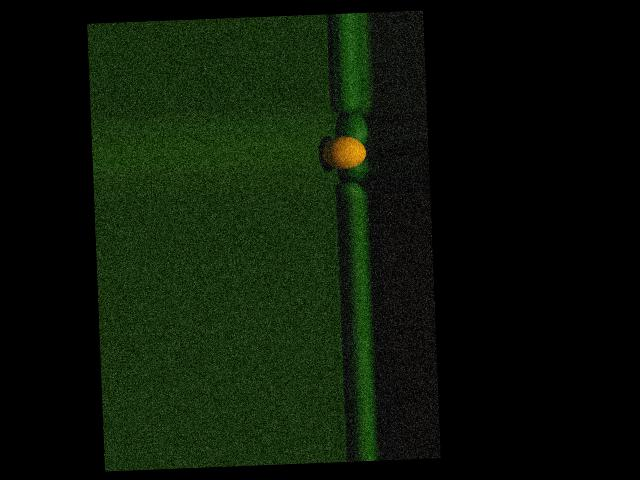egg: (321, 135, 366, 169)
